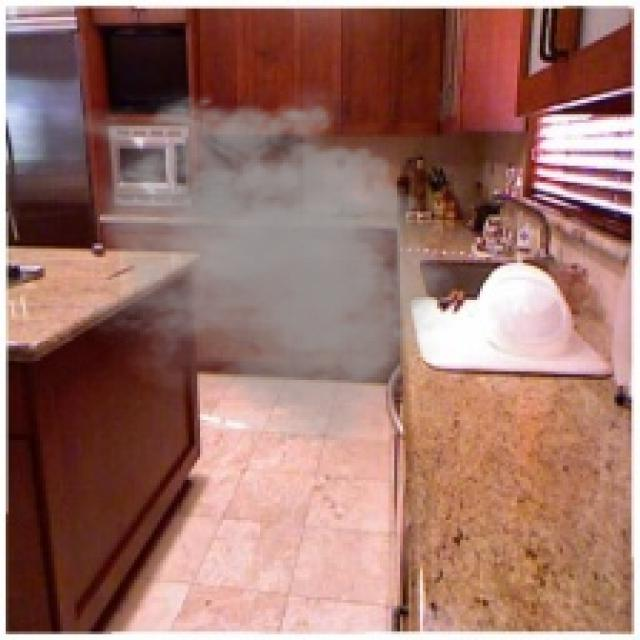smoke: (57, 77, 469, 457)
